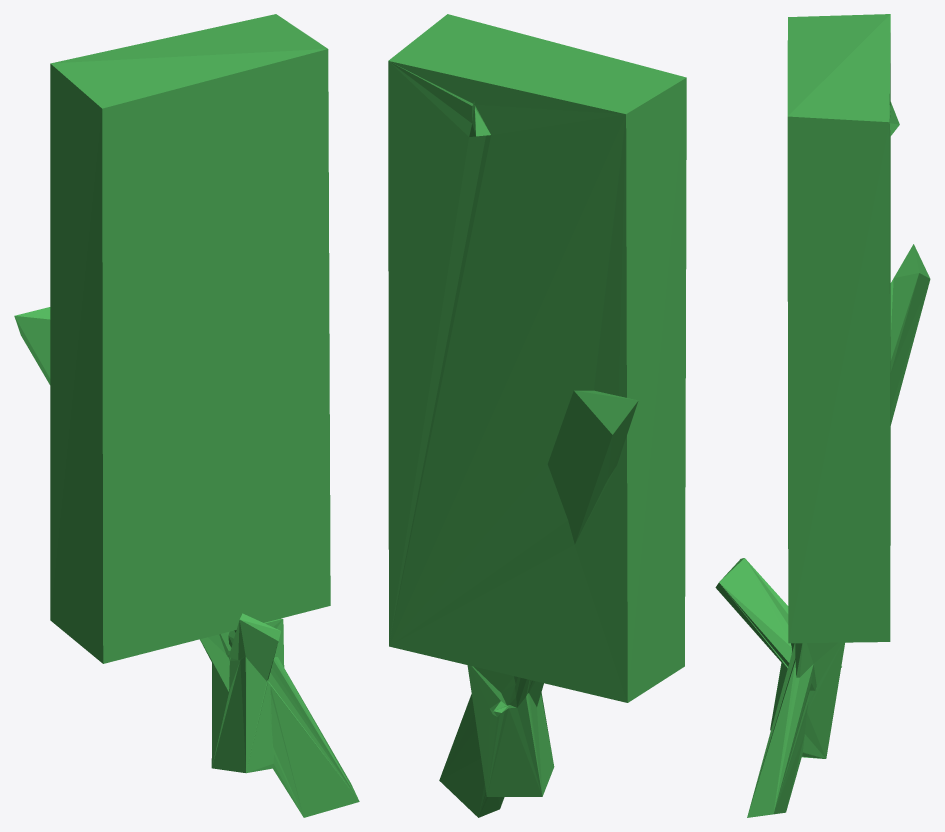
The picture shows the model from 3 angles, left to right: view 1: azimuth 30°, elevation 25°; view 2: azimuth 150°, elevation 25°; view 3: azimuth 270°, elevation 25°; orthographic projection. The views are drawn at different scales.
Parts seen in each view (by area): view 1: 910_Cube.3674; view 2: 910_Cube.3674; view 3: 910_Cube.3674.
Boxes of the visible parts, x1,y1,x2,y2 form: 910_Cube.3674: (14,14,359,817); 910_Cube.3674: (388,14,686,817); 910_Cube.3674: (715,14,930,817).
Bounding box in the file's own units: 5.93 × 16.25 × 4.47.
